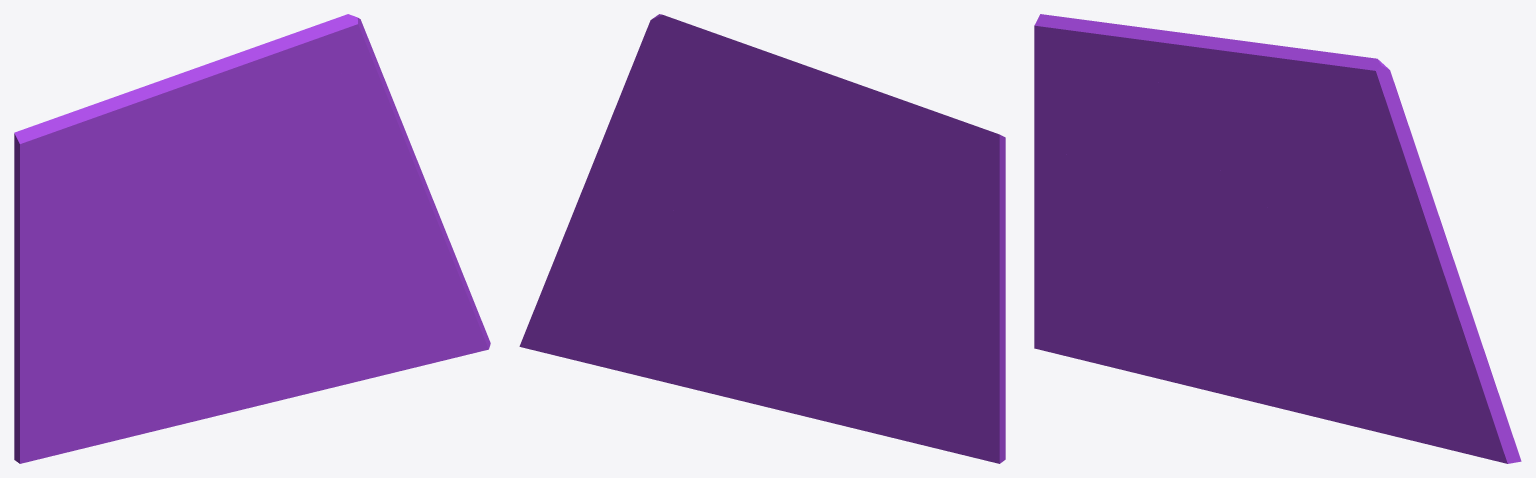
File: Window_37_0_chunks.fbx
The picture shows the model from 3 angles, left to right: view 1: azimuth 30°, elevation 25°; view 2: azimuth 150°, elevation 25°; view 3: azimuth 330°, elevation 25°; orthographic projection.
Visible parts, largest first — view 1: Window_37_0_23, Window_37_0_4, Window_37_0_7, Window_37_0_17, Window_37_0_6, Window_37_0_2, Window_37_0_16, Window_37_0_24, Window_37_0_1, Window_37_0_9, Window_37_0_21, Window_37_0_10 (+14 smaller); view 2: Window_37_0_23, Window_37_0_17, Window_37_0_16, Window_37_0_4, Window_37_0_2, Window_37_0_9, Window_37_0_0, Window_37_0_21, Window_37_0_24, Window_37_0_15, Window_37_0_14, Window_37_0_10 (+16 smaller); view 3: Window_37_0_23, Window_37_0_4, Window_37_0_7, Window_37_0_1, Window_37_0_6, Window_37_0_2, Window_37_0_17, Window_37_0_16, Window_37_0_24, Window_37_0_9, Window_37_0_21, Window_37_0_14 (+14 smaller).
Boxes of the visible parts, x1,y1,x2,y2 form: Window_37_0_23: [157, 298, 282, 424]; Window_37_0_4: [156, 194, 267, 311]; Window_37_0_7: [176, 18, 363, 122]; Window_37_0_17: [14, 247, 106, 412]; Window_37_0_6: [177, 87, 333, 201]; Window_37_0_2: [249, 94, 337, 272]; Window_37_0_16: [14, 173, 156, 266]; Window_37_0_24: [14, 97, 140, 190]; Window_37_0_1: [331, 56, 407, 236]; Window_37_0_9: [331, 264, 455, 382]; Window_37_0_21: [14, 358, 161, 463]; Window_37_0_10: [266, 295, 350, 399]; Window_37_0_23: [732, 295, 857, 421]; Window_37_0_17: [919, 242, 1005, 417]; Window_37_0_16: [857, 174, 1005, 268]; Window_37_0_4: [748, 186, 858, 306]; Window_37_0_2: [666, 91, 765, 273]; Window_37_0_9: [568, 262, 690, 383]; Window_37_0_0: [636, 14, 779, 201]; Window_37_0_21: [876, 363, 1005, 463]; Window_37_0_24: [881, 98, 1005, 182]; Window_37_0_15: [519, 215, 610, 355]; Window_37_0_14: [572, 118, 663, 250]; Window_37_0_10: [671, 304, 746, 398]; Window_37_0_23: [1173, 272, 1299, 412]; Window_37_0_4: [1172, 143, 1284, 316]; Window_37_0_7: [1198, 35, 1380, 114]; Window_37_0_1: [1348, 109, 1429, 278]; Window_37_0_6: [1193, 97, 1350, 196]; Window_37_0_2: [1266, 131, 1354, 273]; Window_37_0_17: [1034, 131, 1121, 277]; Window_37_0_16: [1034, 64, 1172, 187]; Window_37_0_24: [1034, 14, 1155, 118]; Window_37_0_9: [1348, 318, 1473, 455]; Window_37_0_21: [1034, 286, 1177, 378]; Window_37_0_14: [1376, 187, 1467, 334].
Bounding box in the file's own units: 1278 × 933 × 27.2.
